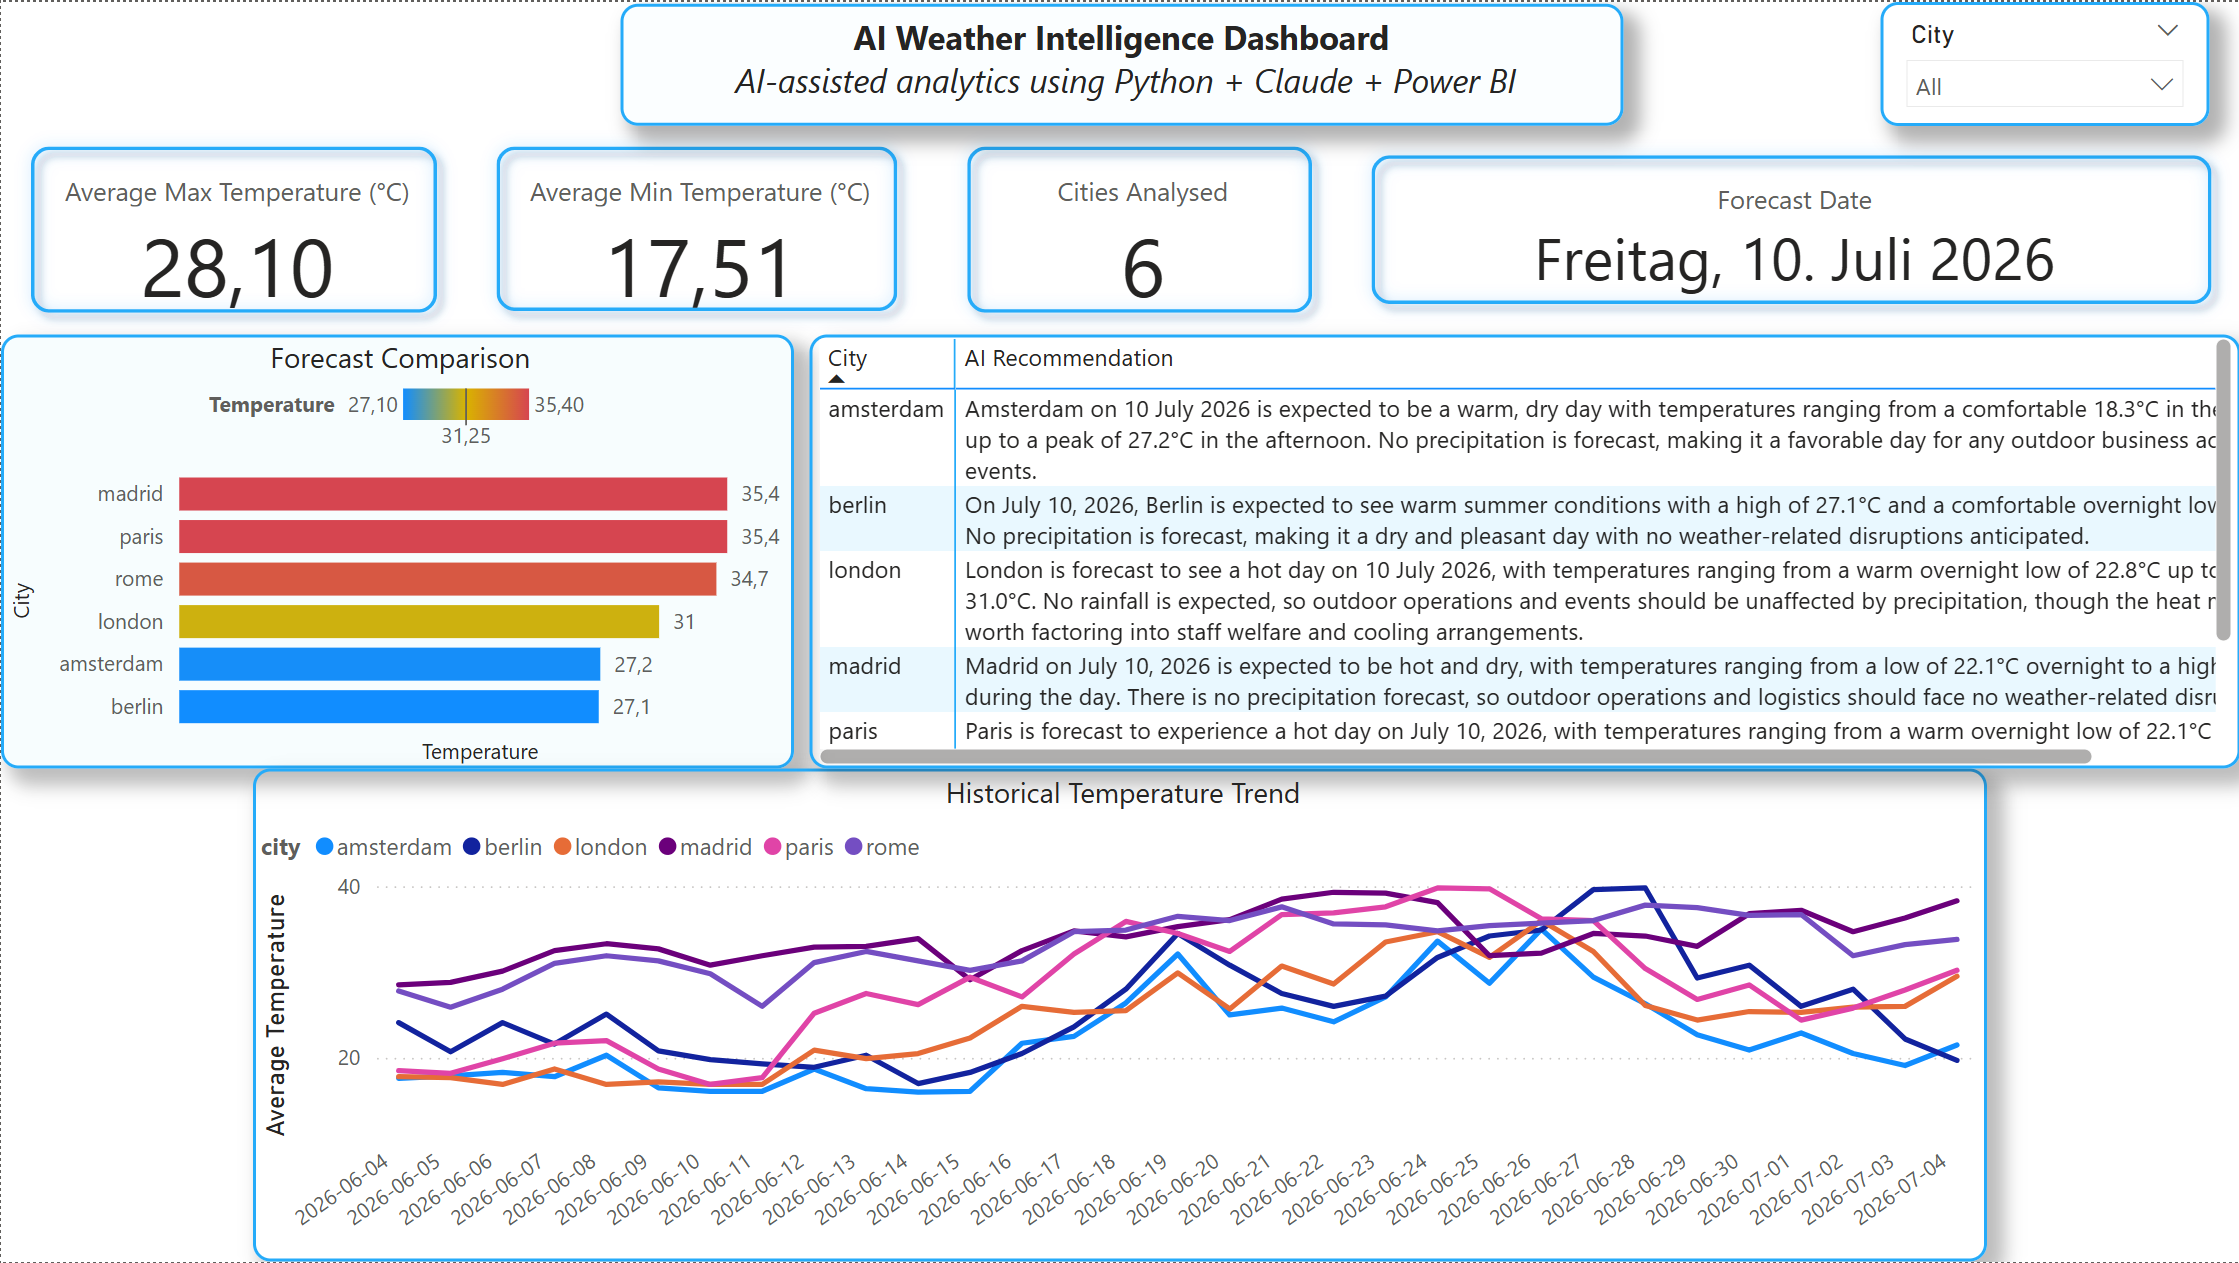

What the dashboard file says about the page in this screenshot:
{"tool":"powerbi","page":{"name":"AI Weather","canvas":[1280,720],"ordinal":1},"visuals":[{"type":"cardVisual","fields":{"Data":["Avg(historical_weather_.temp_max)"]},"box":[0,66,266,129],"z":1000},{"type":"cardVisual","fields":{"Data":["Avg(historical_weather_.temp_min)"]},"box":[266,66,263,128],"z":2000},{"type":"cardVisual","fields":{"Data":["Count(historical_weather_.city)"]},"box":[535,66,231,129],"z":3000},{"type":"cardVisual","fields":{"Data":["Min(tomorrow_forecast_.date)"]},"box":[766,71,514,119],"z":4000},{"type":"clusteredBarChart","title":"Forecast Comparison","fields":{"Category":["tomorrow_forecast_.city"],"Y":["Sum(tomorrow_forecast_.temp_max)"]},"box":[0,190,453,248],"z":5000},{"type":"lineChart","title":"Historical Temperature Trend","fields":{"Category":["historical_weather_.date"],"Y":["Avg(historical_weather_.temp_max)"],"Series":["historical_weather_.city"]},"box":[144,438,991,282],"z":6000},{"type":"slicer","fields":{"Values":["historical_weather_.city"]},"box":[1074,0,188,71],"z":7000},{"type":"tableEx","fields":{"Values":["tomorrow_forecast_.city","tomorrow_forecast_.ai_summary"]},"box":[462,190,818,248],"z":8000},{"type":"textbox","box":[354,1,573,70],"z":9000}]}

Visuals, with their boxes in screenshot pixels (x1, y1, x2, y2), scaled from the page's 1280x720 canvas onto the 2239x1263 screenshot:
cardVisual - Avg(historical_weather_.temp_max): BBox(0, 116, 465, 342)
cardVisual - Avg(historical_weather_.temp_min): BBox(465, 116, 925, 340)
cardVisual - Count(historical_weather_.city): BBox(936, 116, 1340, 342)
cardVisual - Min(tomorrow_forecast_.date): BBox(1340, 125, 2238, 333)
"Forecast Comparison" clusteredBarChart: BBox(0, 333, 792, 768)
"Historical Temperature Trend" lineChart: BBox(252, 768, 1985, 1262)
slicer - historical_weather_.city: BBox(1879, 0, 2208, 125)
tableEx - tomorrow_forecast_.city x tomorrow_forecast_.ai_summary: BBox(808, 333, 2238, 768)
textbox: BBox(619, 2, 1622, 125)
